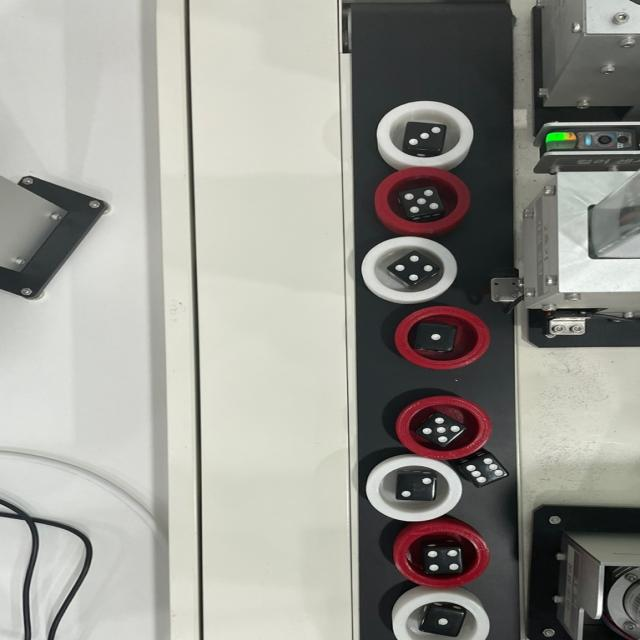DICE1: (426, 611, 458, 634), (419, 326, 452, 348)
DICE2: (398, 474, 437, 498)
DICE3: (404, 124, 443, 148)
DICE4: (393, 256, 434, 283), (426, 548, 464, 572)
DICE5: (400, 189, 448, 216), (421, 416, 463, 444)
DICE6: (461, 458, 506, 481)
RedChip: (394, 523, 491, 589), (375, 166, 471, 230), (396, 308, 488, 370), (396, 401, 488, 456)
WhiteChip: (363, 238, 457, 302), (368, 458, 460, 520), (378, 103, 470, 164), (394, 594, 487, 640)
